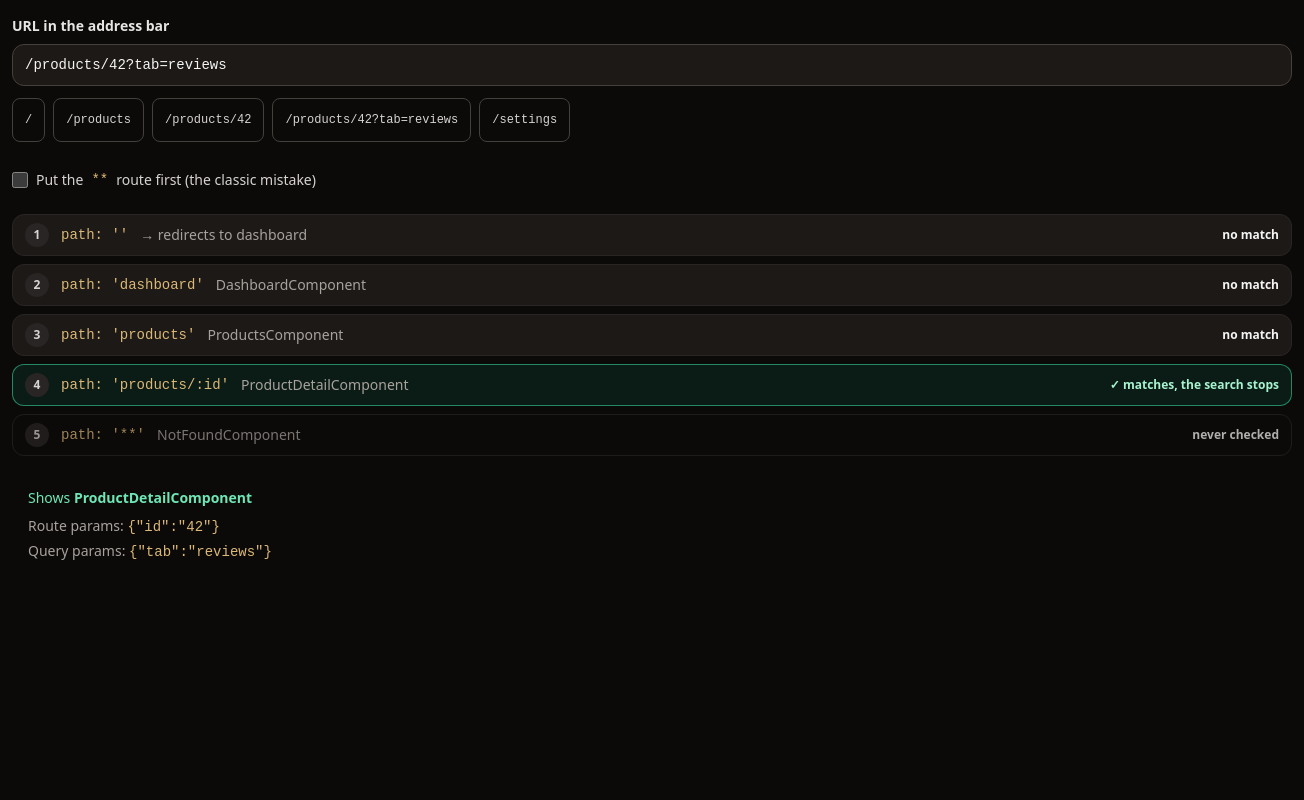
it: RouteMatcherDemoComponent › updates as the URL is typed
The image size is (1304, 800).
Replace the text in the field with test id "matcher-url" with "/dashboard" at coordinates (652, 65), box [12,44,1292,86]
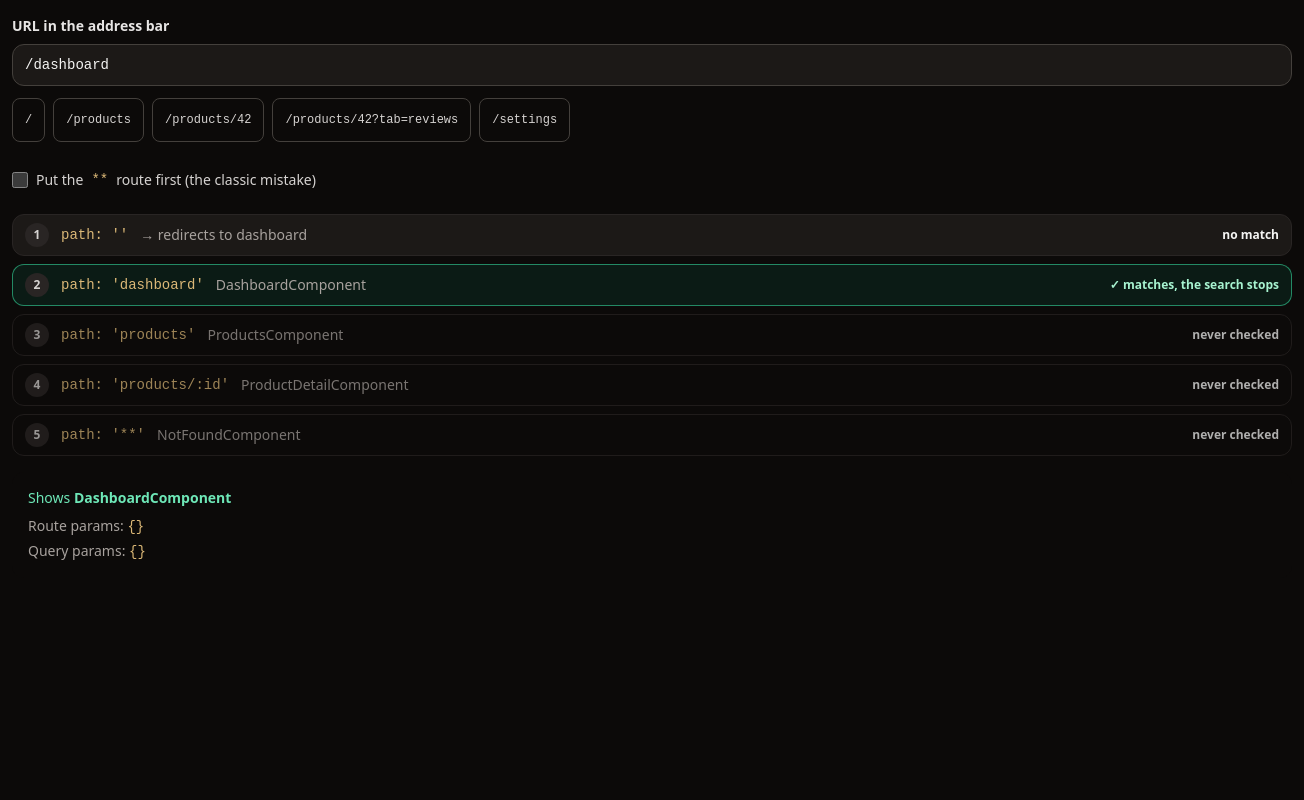
Check: the text "DashboardComponent" is shown, box [216,275,366,295]
Check: the text "✓ matches, the search stops" is shown, box [1110,277,1279,293]
Check: the text "never checked" in the row of "path: 'products'" is shown, box [1192,326,1279,343]
